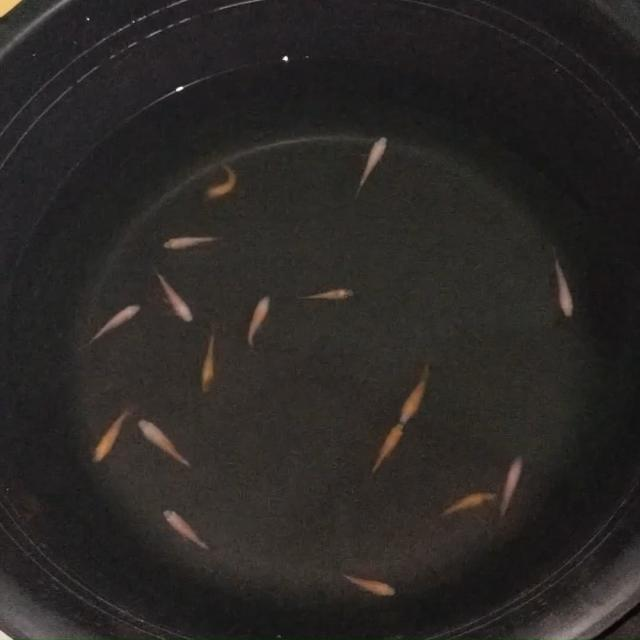nila: (76, 301, 142, 349), (136, 417, 198, 467), (493, 454, 528, 526), (428, 488, 500, 522), (90, 404, 131, 462), (370, 420, 408, 480), (163, 508, 216, 551), (354, 133, 391, 194), (398, 362, 432, 426), (155, 272, 198, 322), (242, 286, 276, 348), (549, 254, 578, 322), (340, 568, 400, 600), (204, 158, 238, 201), (198, 328, 218, 396), (160, 231, 220, 251), (297, 285, 359, 304)
